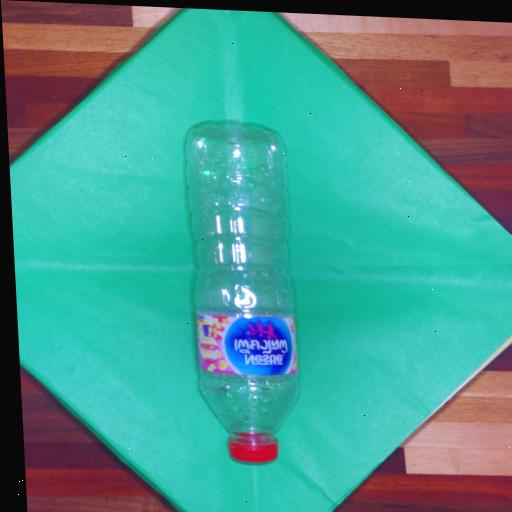bottle: (186, 124, 298, 461)
